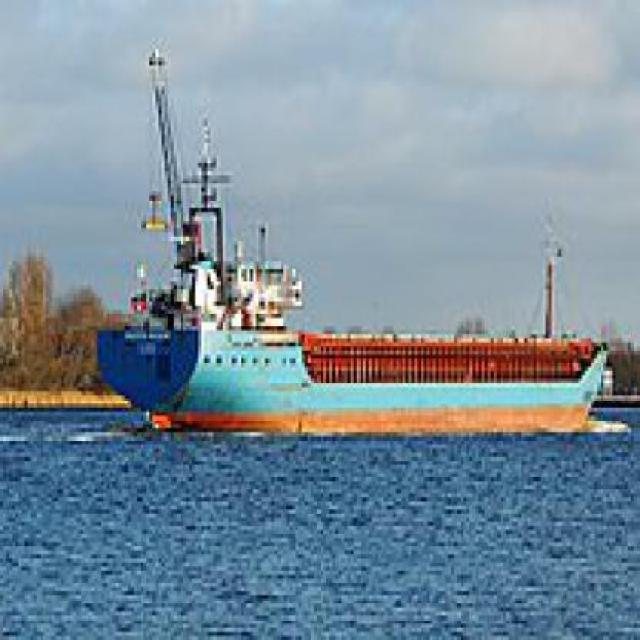container: (87, 46, 621, 441)
